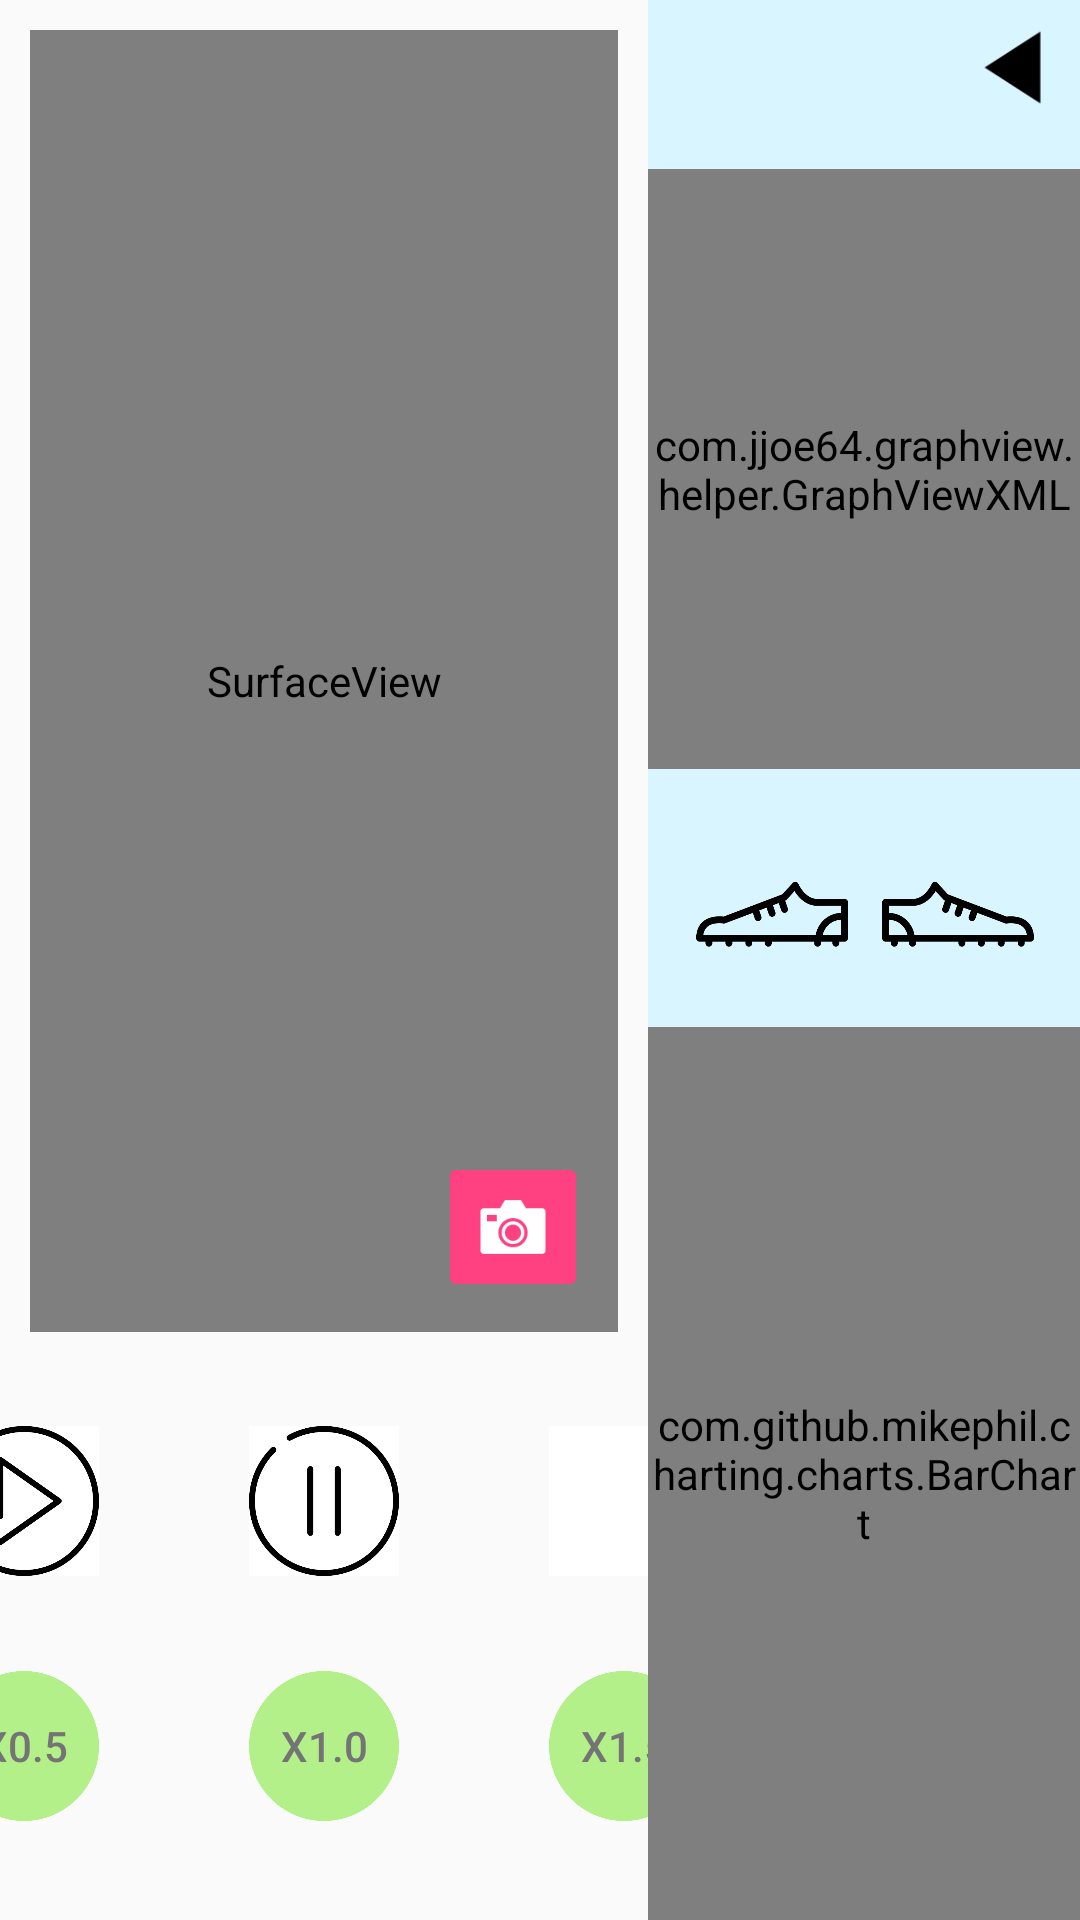

Locate icon controls on the screen. Image size 1080 x 1920, boxes as (x1, y1, x2, y2).
back: (984, 31, 1041, 104)
camera: (450, 1170, 576, 1284)
foot left: (696, 882, 848, 947)
foot right: (882, 882, 1034, 947)
pause: (249, 1426, 399, 1576)
